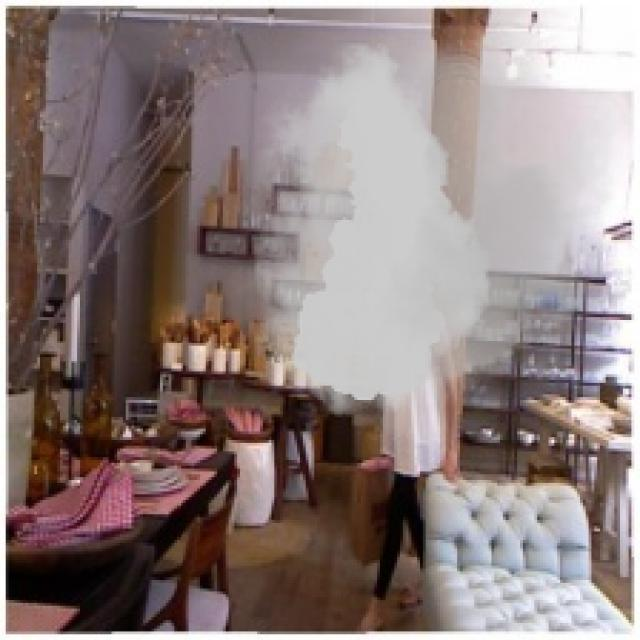Smoke: (222, 17, 638, 429)
